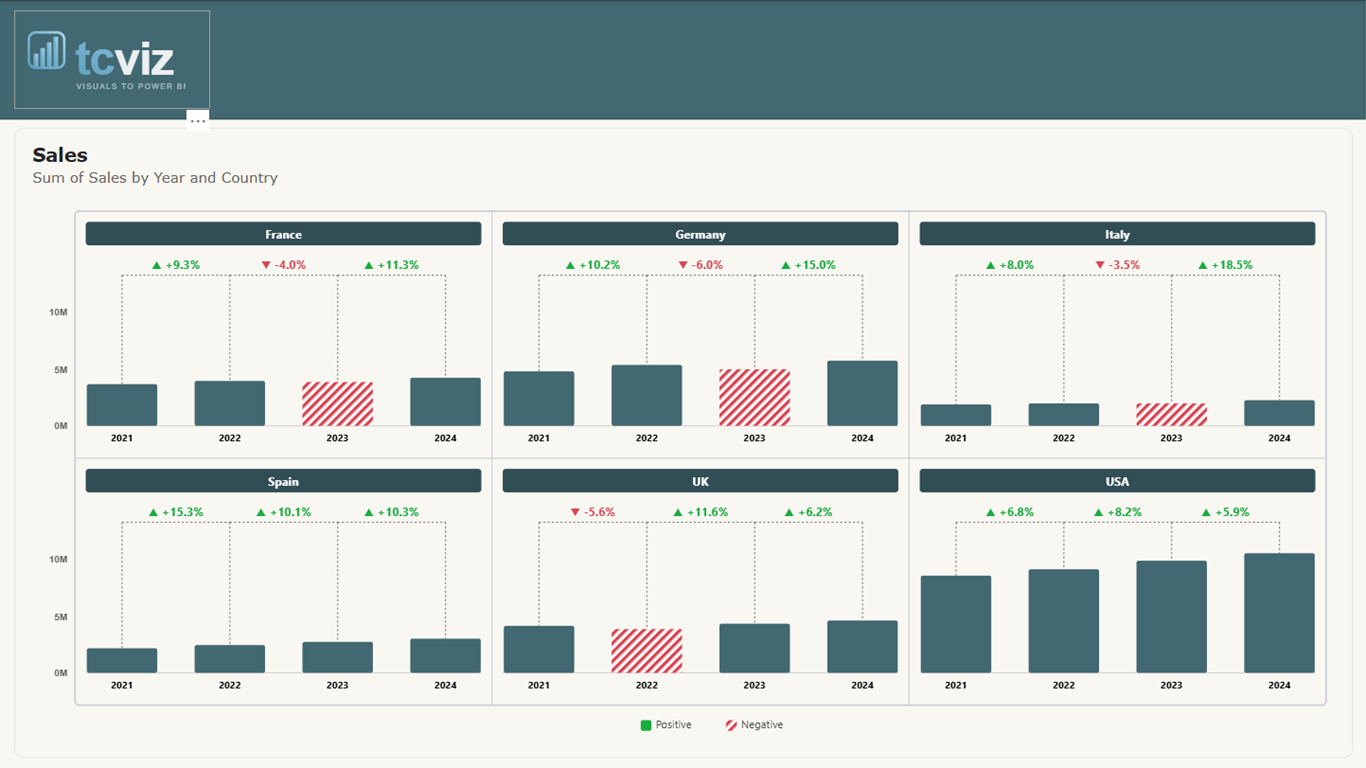

The dashboard page shown, as its layout file describes it:
{"tool":"powerbi","page":{"name":"Page 1","canvas":[1280,720],"ordinal":0},"visuals":[{"type":"barChartVariation98877665544332211","box":[10,0,280,280],"z":0},{"type":"barChartVariation98877665544332211","fields":{"series":["SalesData.Country"],"measure":["Sum(SalesData.Sales)"],"category":["SalesData.Year"]},"box":[9.9,14.2,1261.2,691.5],"z":1}]}

Visuals, with their boxes on the page's 1280x720 design canvas (x1, y1, x2, y2). These are canvas units, not pixel positions in the 1366x768 screenshot, which may show the page scaled, cropped or inside an application window:
barChartVariation98877665544332211: 10:0:290:280
barChartVariation98877665544332211 - SalesData.Country x Sum(SalesData.Sales): 10:14:1271:706
